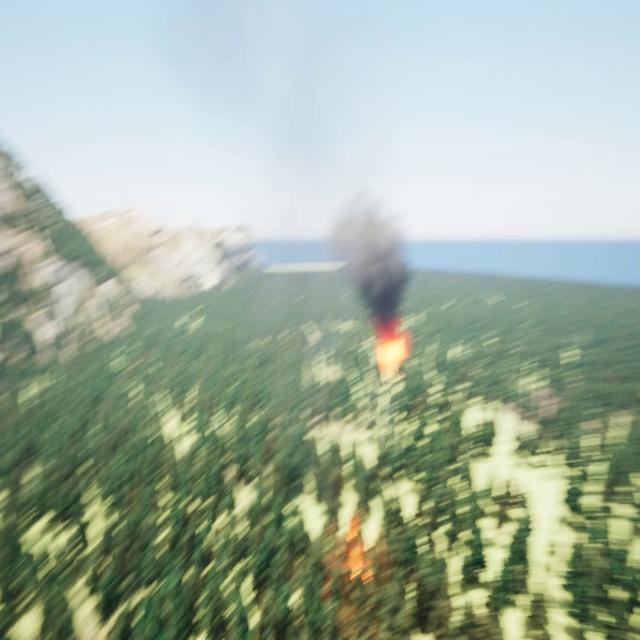fire: (333, 515, 383, 609), (371, 322, 411, 378)
smoke: (328, 193, 414, 313)
